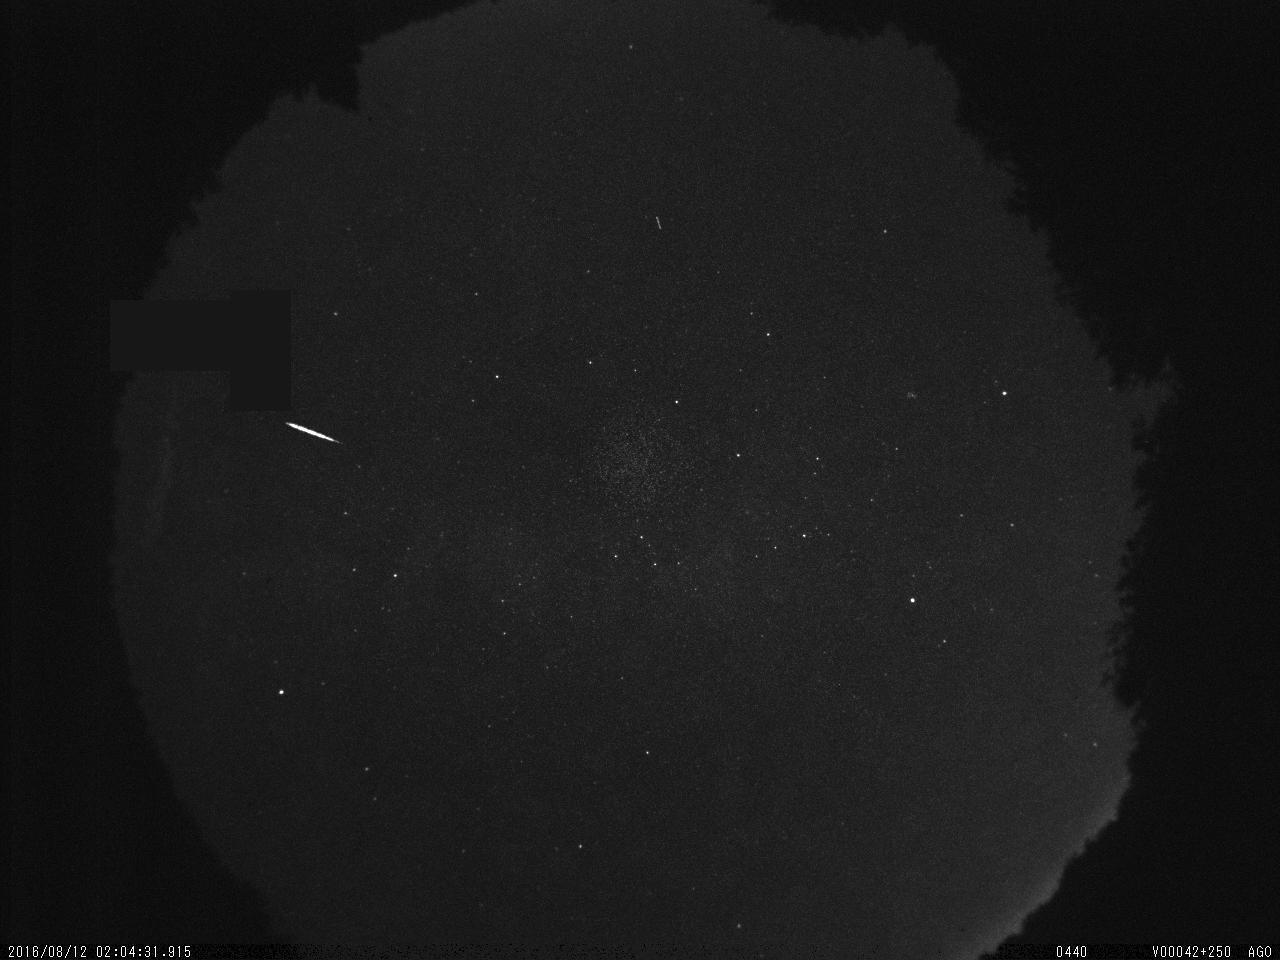meteor: (270, 404, 355, 469)
